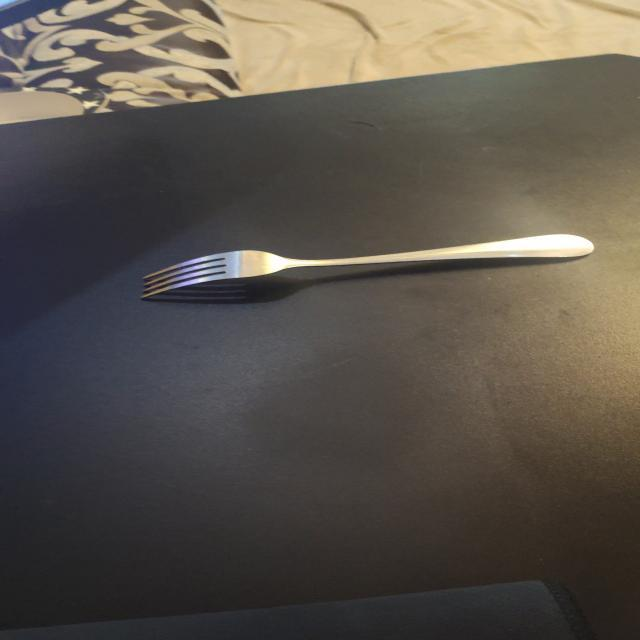plastic utensil: (142, 235, 593, 298)
